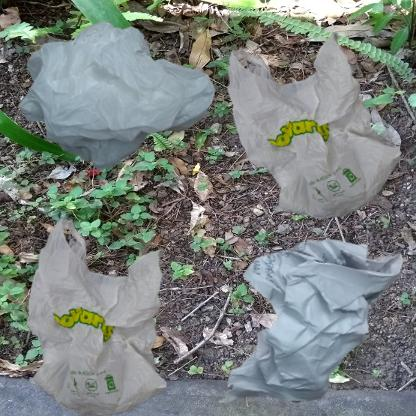bolsa: (213, 10, 416, 259), (10, 10, 233, 193), (10, 213, 201, 416)
papel: (213, 213, 416, 416)
